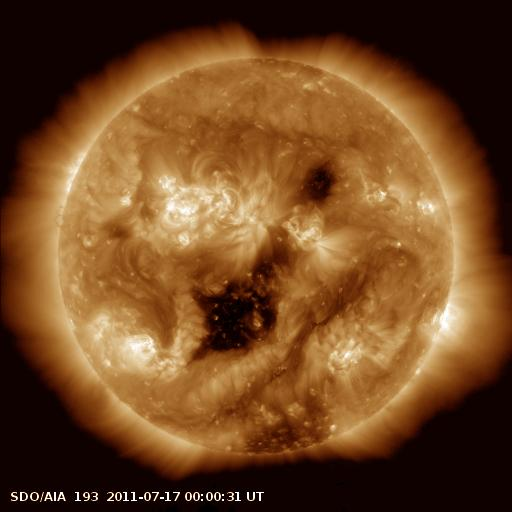coronal_hole: (184, 225, 301, 370), (236, 382, 339, 461), (294, 158, 346, 211)
